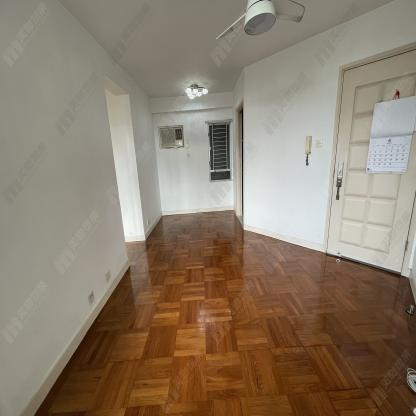AC: (159, 127, 184, 148)
